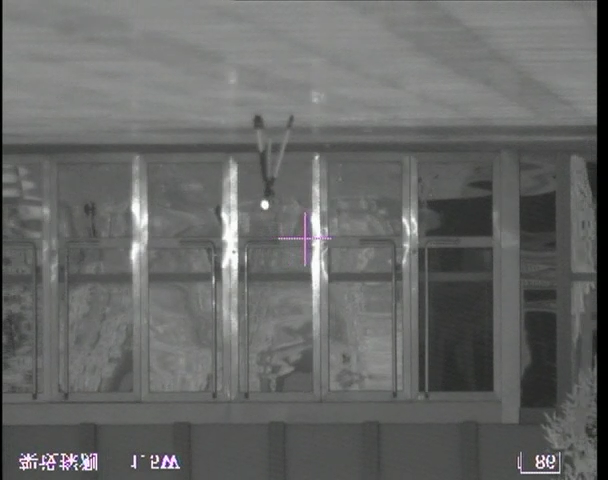my: (259, 199, 270, 211)
